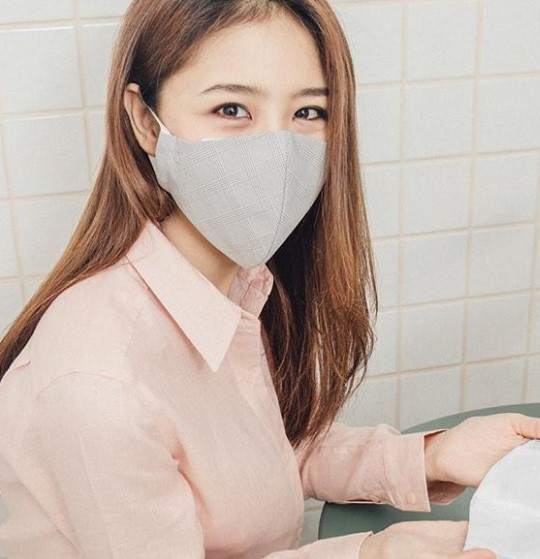face_with_mask: (111, 0, 357, 274)
